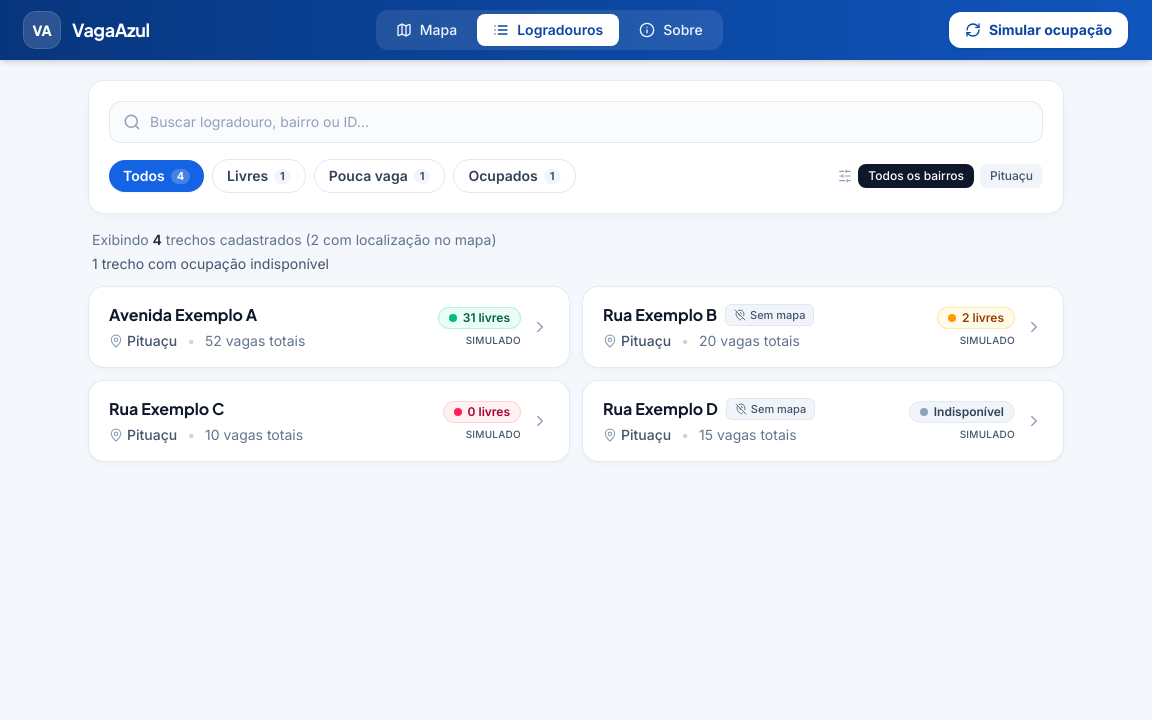
Test: Navegação e listagem › Consulta dos detalhes › apresenta zero vagas livres quando o trecho está lotado
The width and height of the screenshot is (1152, 720).
Earlier steps of the test are not shown.
What coordinates should you click on to do the following:
click the heading "Rua Exemplo C"
I would click on:
 (167, 409)
Its box is [109,397,224,421].
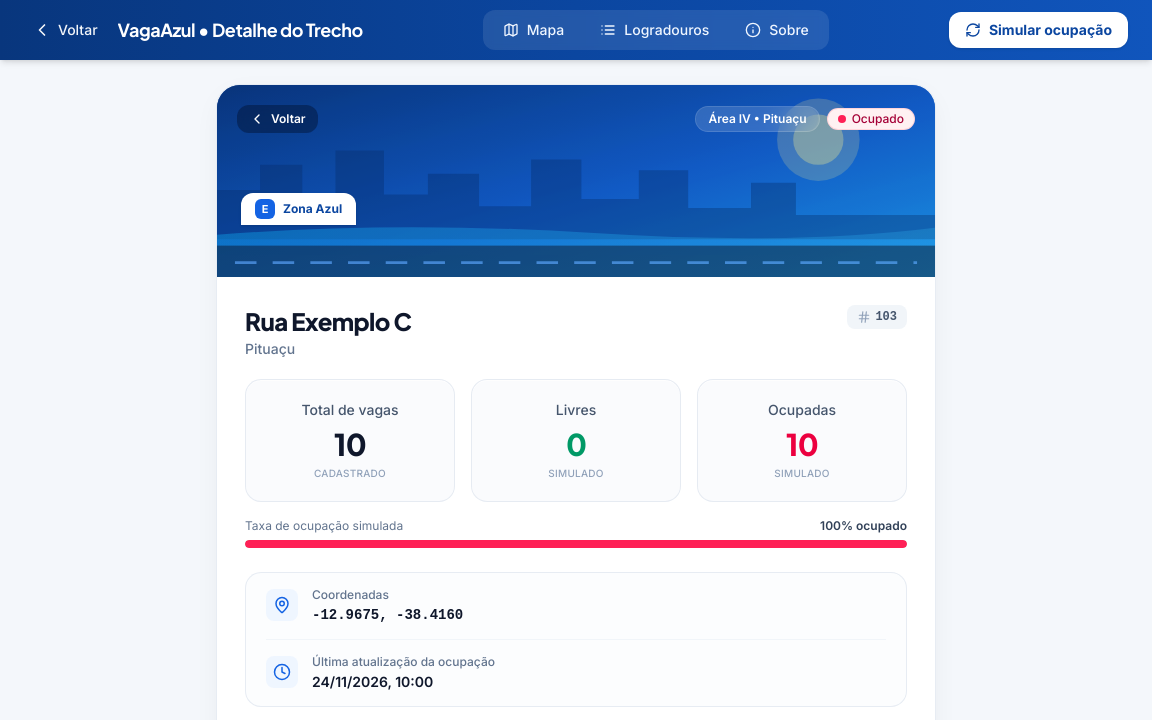
Check: the element with test id "stat-livres" shows "0", box [566,425,586,463]
